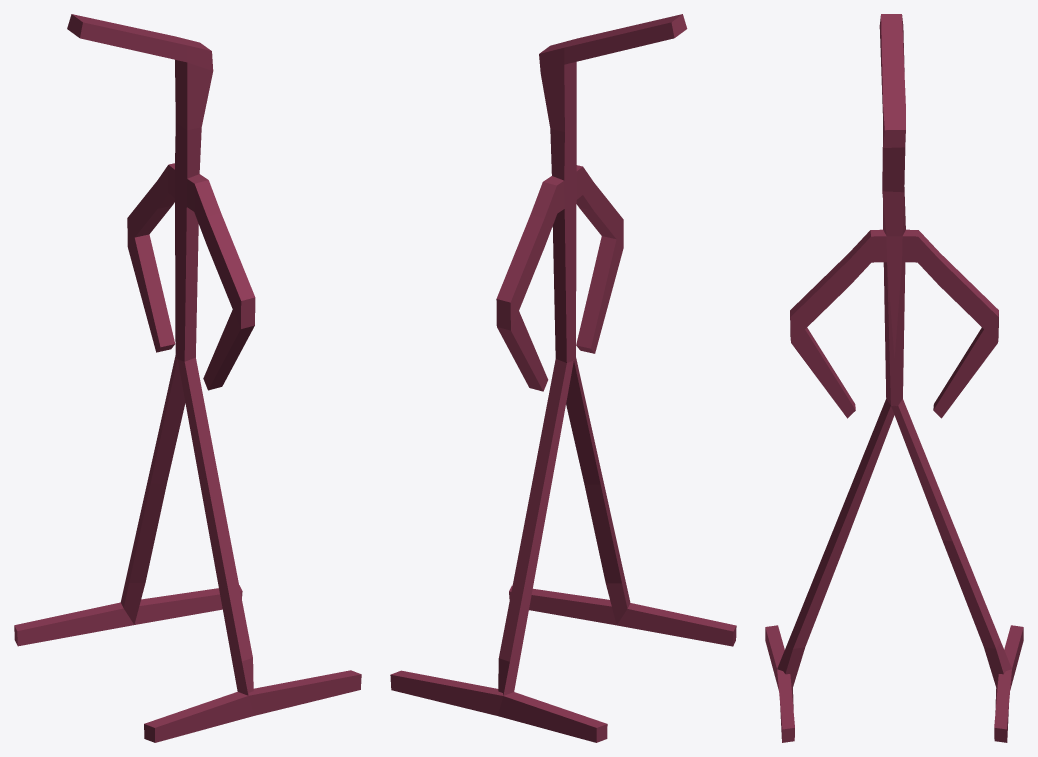
File: MetalFig.fbx
The picture shows the model from 3 angles, left to right: view 1: azimuth 30°, elevation 25°; view 2: azimuth 150°, elevation 25°; view 3: azimuth 270°, elevation 25°; orthographic projection. The views are drawn at different scales.
Parts seen in each view (by area): view 1: Metalfig; view 2: Metalfig; view 3: Metalfig.
Part boxes in pixels (x1,y1,x2,y2): Metalfig: (14,14,361,742); Metalfig: (390,14,736,742); Metalfig: (765,14,1023,742).
Size of the model in its own units: 51.41 by 147 by 54.61.
